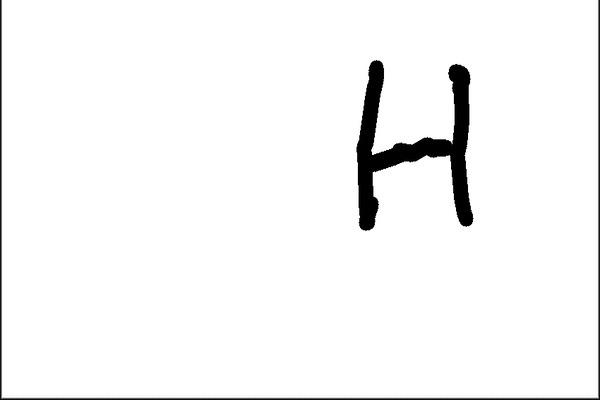H: (346, 54, 481, 232)
